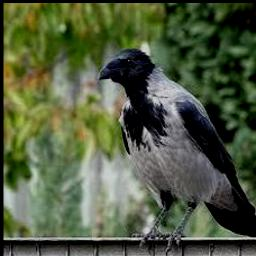Crow: (99, 48, 256, 256)
